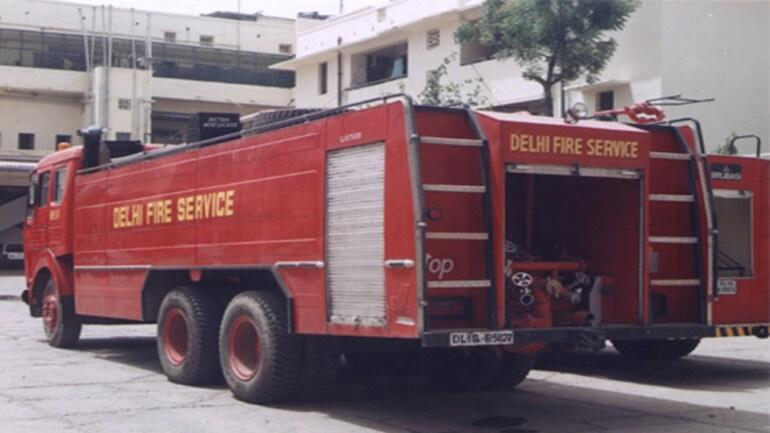Emergency-Vehicles: (19, 100, 719, 388)
